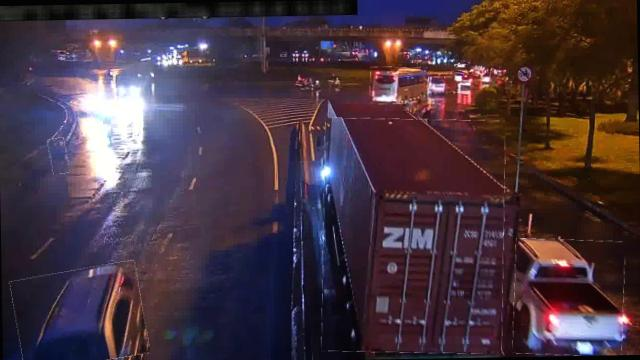Bike: (48, 138, 68, 174)
Bus: (370, 66, 429, 103)
Car: (512, 237, 626, 356), (12, 263, 147, 360), (429, 77, 452, 93)
Truck: (319, 116, 507, 355)
